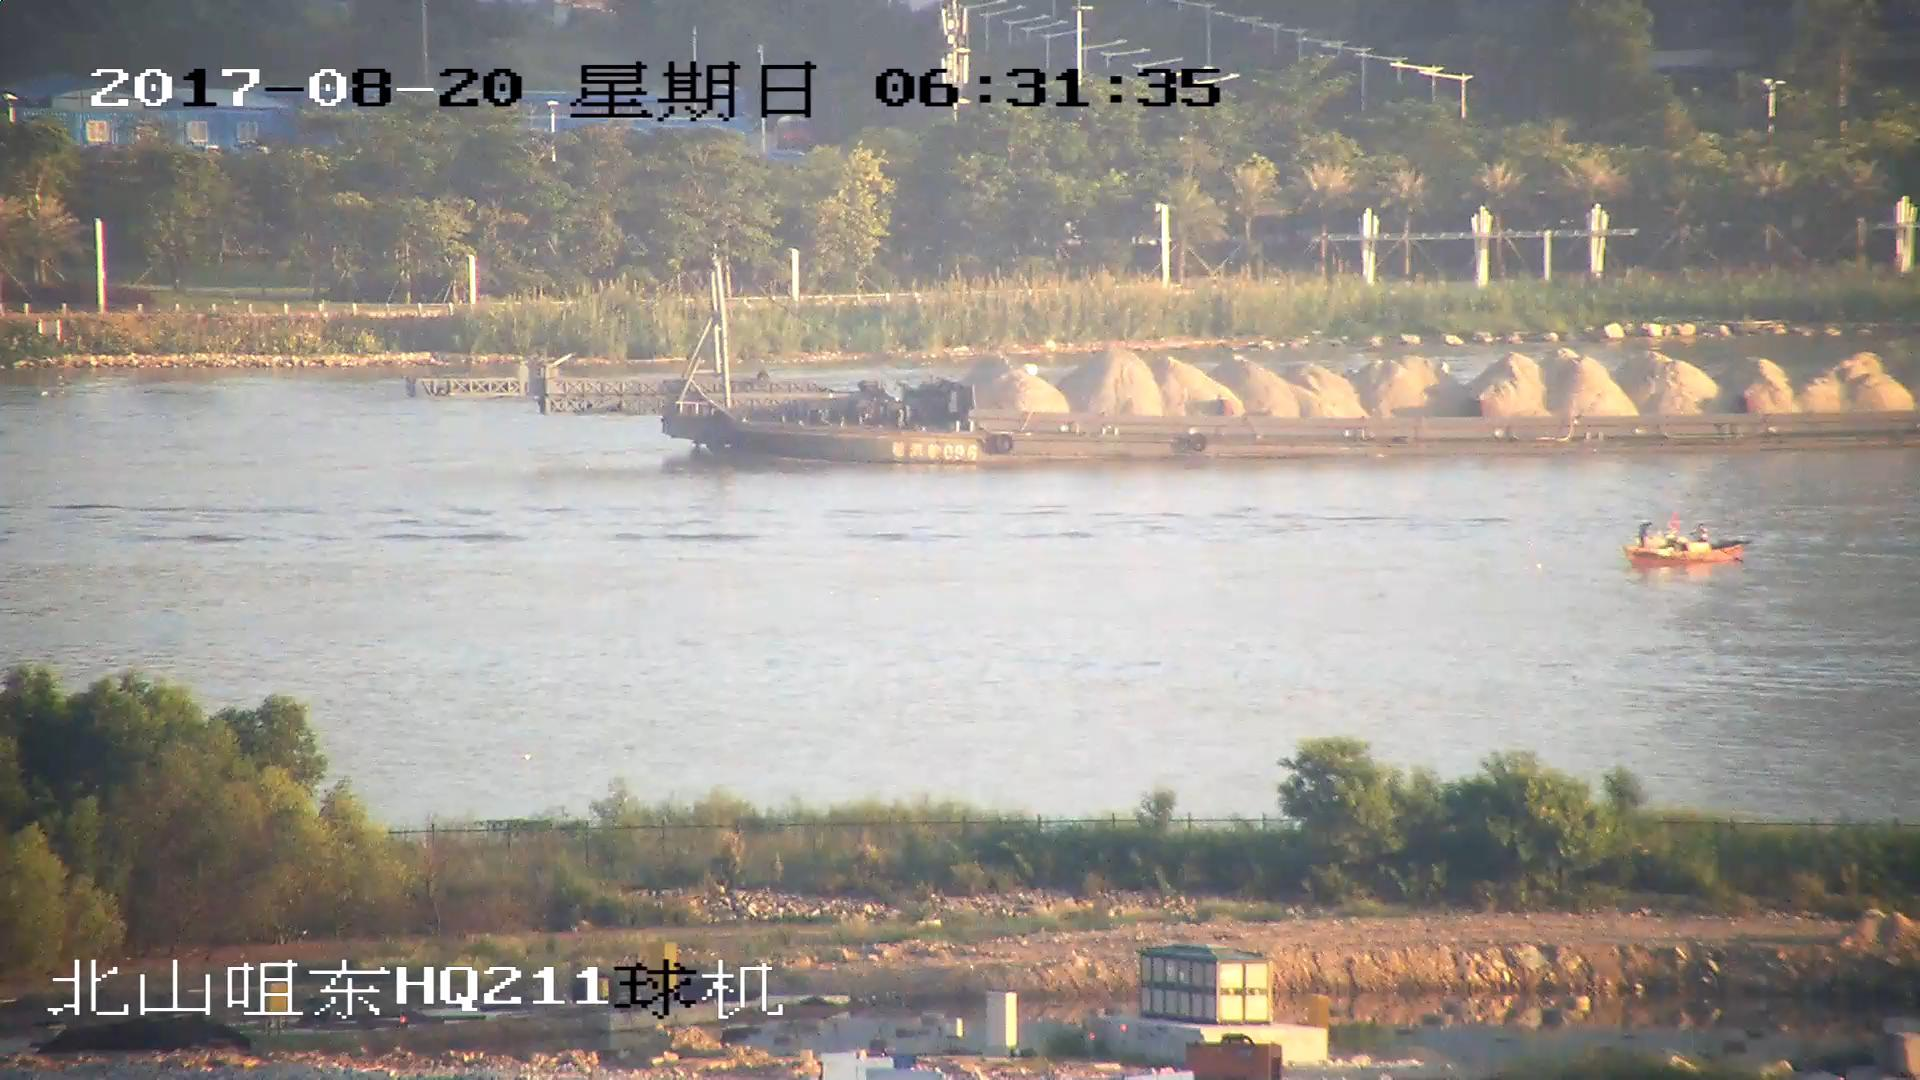Ship: (402, 248, 1920, 469), (1622, 513, 1760, 571)
